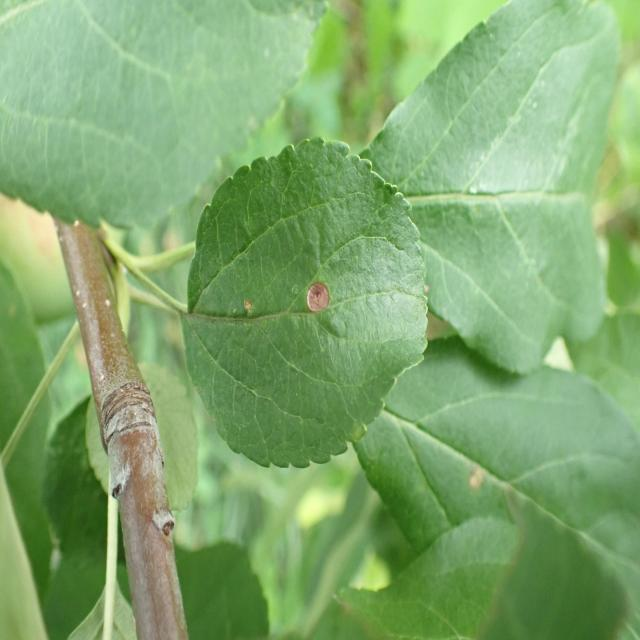Black Rot: (454, 452, 492, 516), (295, 266, 334, 327)
